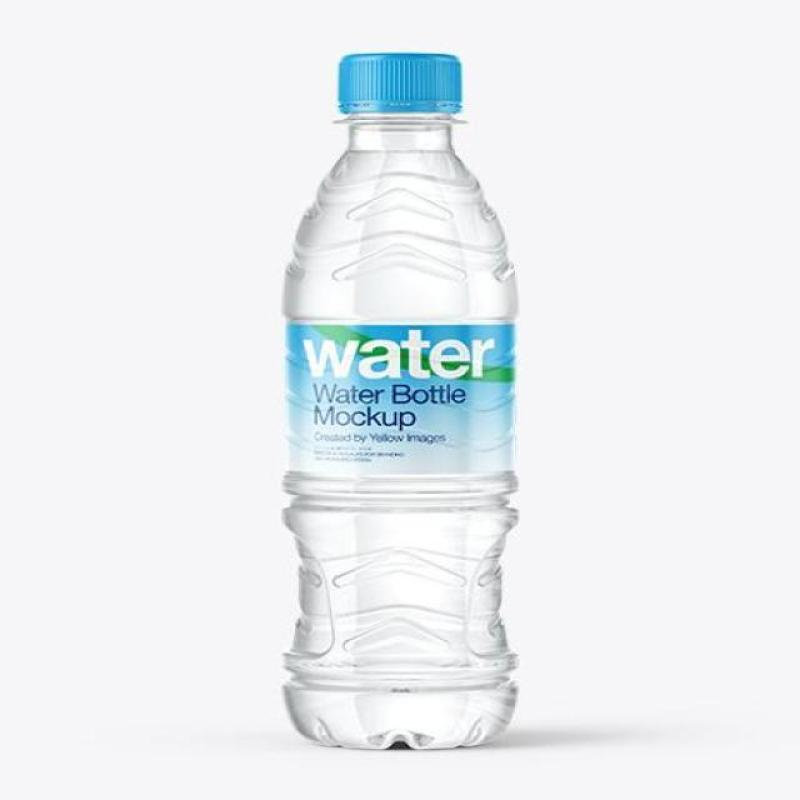botella: (278, 50, 522, 746)
